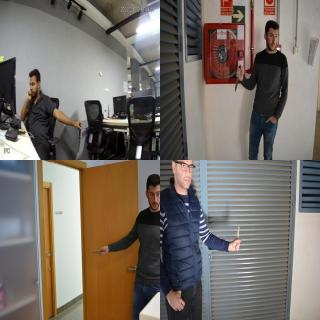knife: (234, 63, 241, 93), (76, 124, 82, 154), (234, 224, 240, 254), (91, 249, 107, 256)
